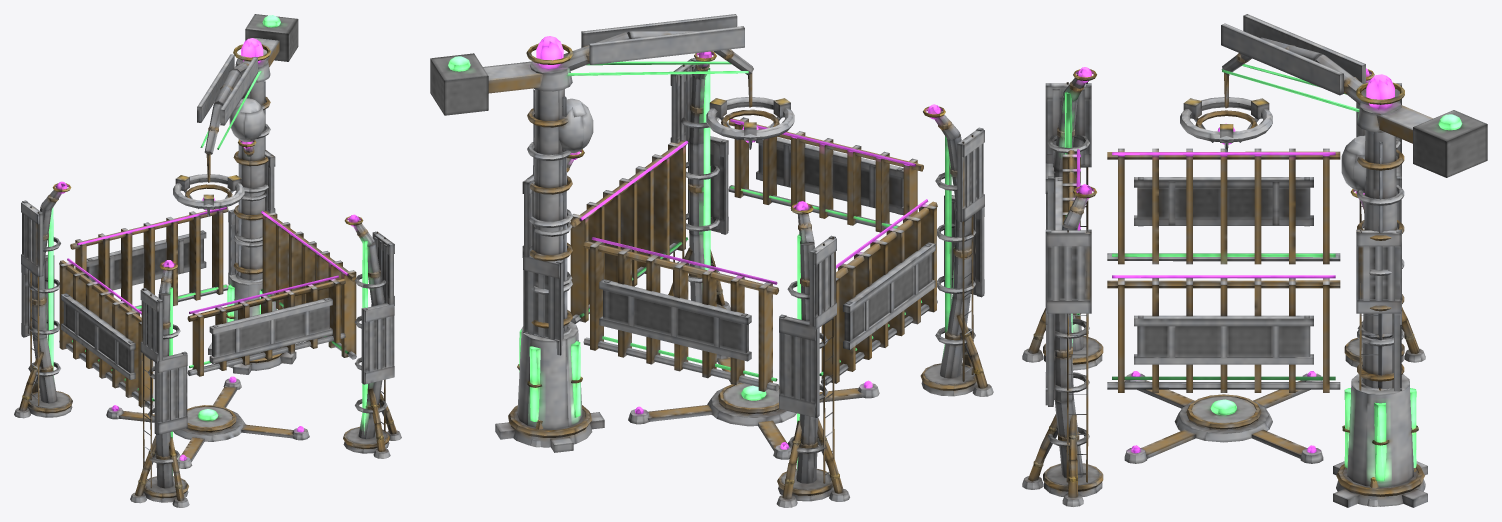
The model's file is yuri_construction_rig.glb.
3 renders of one model, left to right at view 1: azimuth 30°, elevation 25°; view 2: azimuth 150°, elevation 25°; view 3: azimuth 270°, elevation 25°, orthographic. The views are drawn at different scales.
Parts seen in each view (by area): view 1: SpanBeam_S, CornerTower_SW, SpanBeam_N, SpanBeam_W, CornerTower_SE, CornerTower_NW, CraneJib, CraneMast, SpanBeam_E, Hull, CornerTower_NE; view 2: SpanBeam_N, CraneJib, CraneMast, CornerTower_NW, SpanBeam_W, SpanBeam_S, CornerTower_SW, SpanBeam_E, CornerTower_SE, Hull, CornerTower_NE; view 3: SpanBeam_E, CraneMast, CraneJib, SpanBeam_W, CornerTower_SE, Hull, CornerTower_SW, CornerTower_NE, CornerTower_NW, SpanBeam_S.
Boxes of the visible parts, left/top/right/bottom form: SpanBeam_S: left=187, top=275, right=345, bottom=376; CornerTower_SW: left=130, top=260, right=189, bottom=507; SpanBeam_N: left=70, top=207, right=228, bottom=311; SpanBeam_W: left=59, top=258, right=154, bottom=408; CornerTower_SE: left=343, top=214, right=401, bottom=458; CornerTower_NW: left=14, top=181, right=72, bottom=418; CraneJib: left=173, top=14, right=298, bottom=216; CraneMast: left=208, top=81, right=296, bottom=374; SpanBeam_E: left=261, top=210, right=356, bottom=359; Hull: left=106, top=376, right=309, bottom=468; CornerTower_NE: left=228, top=139, right=275, bottom=283; SpanBeam_N: left=583, top=237, right=778, bottom=391; CraneJib: left=430, top=14, right=794, bottom=149; CraneMast: left=495, top=89, right=604, bottom=452; CornerTower_NW: left=776, top=201, right=849, bottom=507; SpanBeam_W: left=819, top=199, right=937, bottom=385; SpanBeam_S: left=728, top=117, right=923, bottom=232; CornerTower_SW: left=920, top=104, right=993, bottom=396; SpanBeam_E: left=570, top=140, right=688, bottom=323; CornerTower_SE: left=668, top=51, right=730, bottom=309; Hull: left=628, top=354, right=879, bottom=459; CornerTower_NE: left=522, top=149, right=584, bottom=447; SpanBeam_E: left=1107, top=275, right=1340, bottom=392; CraneMast: left=1333, top=130, right=1427, bottom=507; CraneJib: left=1180, top=14, right=1487, bottom=177; SpanBeam_W: left=1107, top=148, right=1340, bottom=264; CornerTower_SE: left=1022, top=184, right=1103, bottom=506; Hull: left=1124, top=371, right=1323, bottom=463; CornerTower_SW: left=1022, top=67, right=1103, bottom=370; CornerTower_NE: left=1350, top=189, right=1425, bottom=506; CornerTower_NW: left=1344, top=68, right=1425, bottom=367; SpanBeam_S: left=1055, top=149, right=1080, bottom=324.
Size of what is drawn, in the model's own units: 6.25 by 6.1 by 6.24.
1 material, 1 textured.
